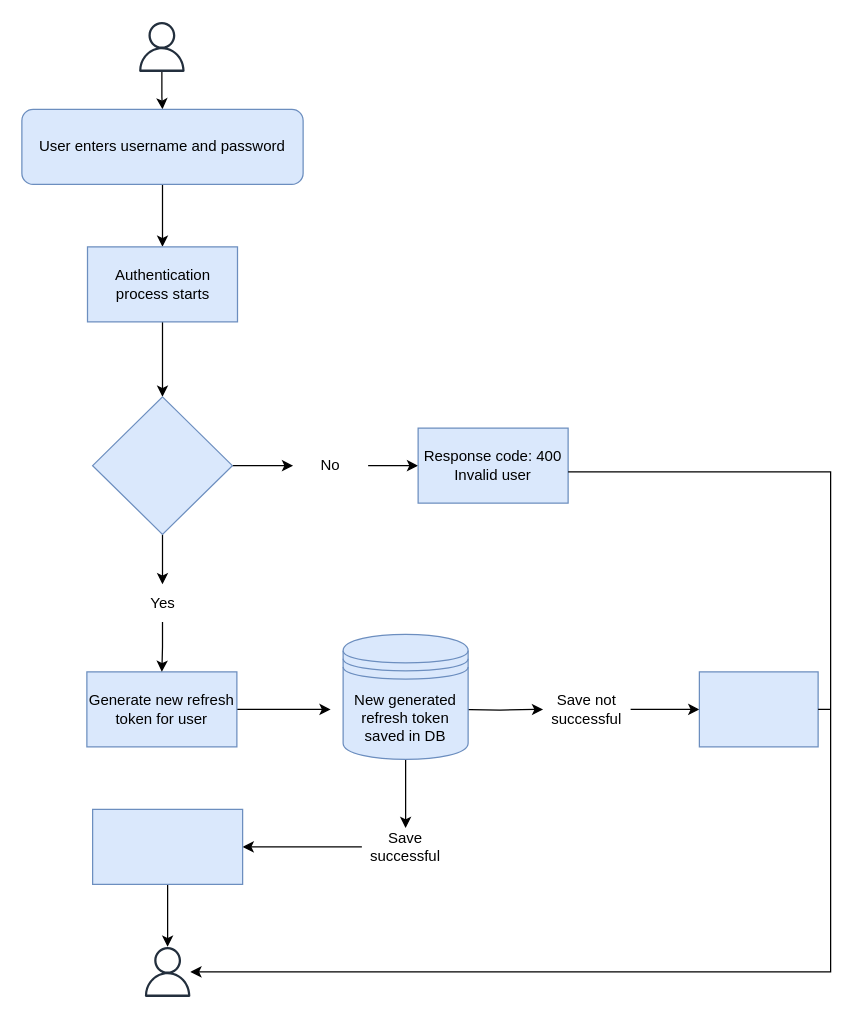
Image size: 863x1018. Some labels were removed from this diagram. Each missing label, with the centre of its shape:
Generate JWT token for user: the point at 167,846
Is user valid?: the point at 161,465
Send error message: the point at 758,709
